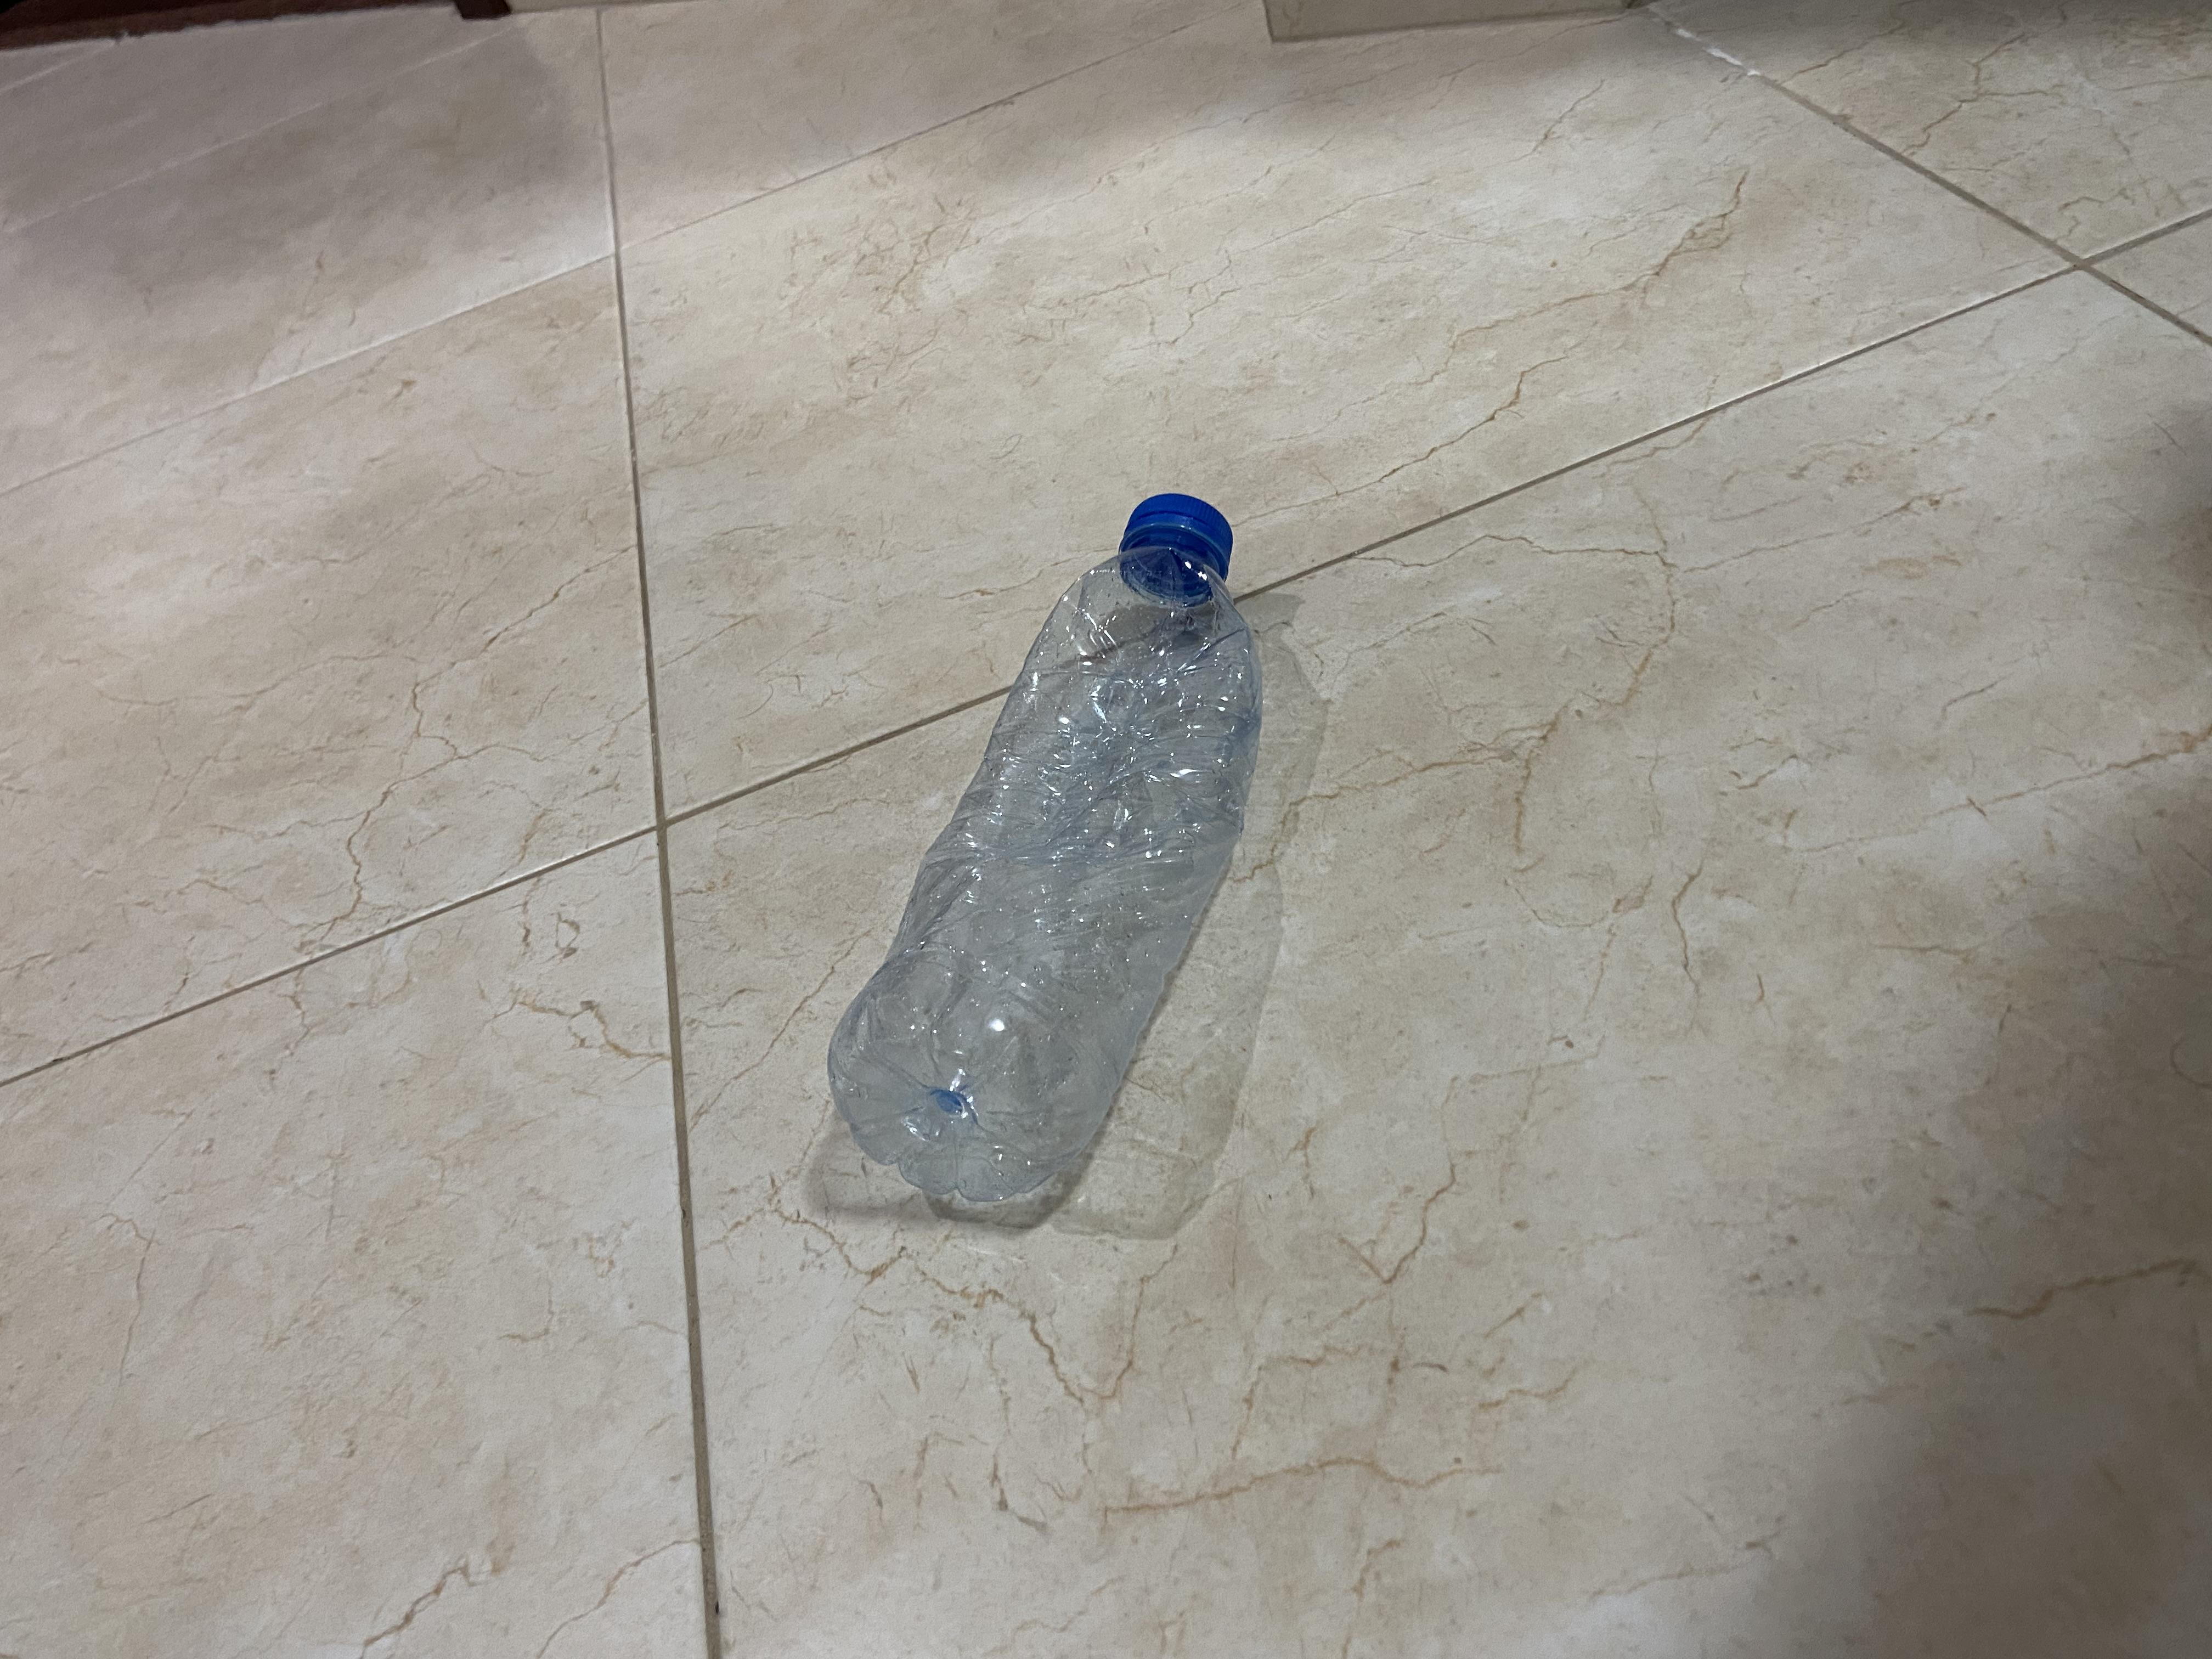bottle: (820, 476, 1287, 1215)
